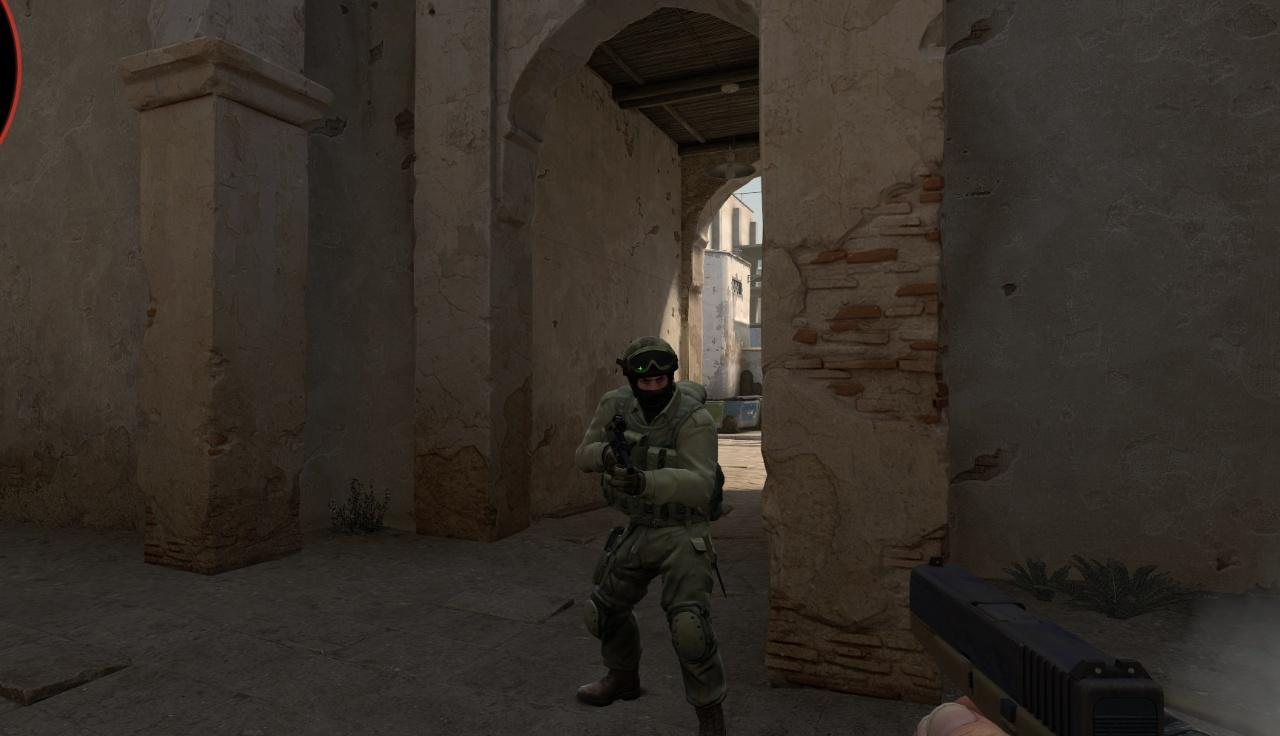ct: (574, 336, 725, 736)
cthead: (623, 337, 677, 409)
pistol: (904, 556, 1209, 736)
